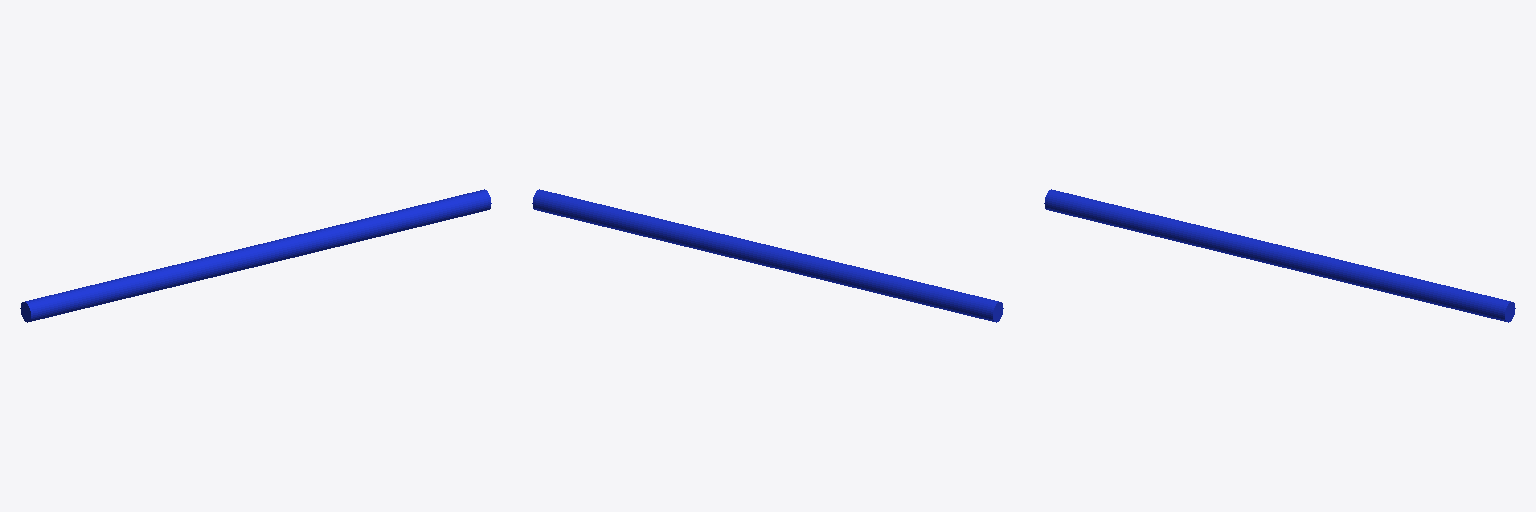
robot.urdf — cb_pen_d60:
<?xml version="1.0"?>
<!-- A30 pen search rod. Generated by FoundationTouch tools/contactbench/pen_tasks.py -->
<robot name="cb_pen_d60">
  <material name="c"><color rgba="0.15 0.25 0.85 1.0"/></material>
  <link name="object">
    <visual><origin xyz="0 0 0" rpy="0 0 0"/><geometry><mesh filename="rod.obj" scale="1 1 1"/></geometry><material name="c"/></visual>
    <collision><origin xyz="0 0 0" rpy="0 0 0"/><geometry><mesh filename="rod.obj" scale="1 1 1"/></geometry></collision>
    <inertial><mass value="3.500000e-03"/><origin xyz="0 0 0" rpy="0 0 0"/><inertia ixx="1.564912e-08" ixy="0" ixz="0" iyy="6.570325e-06" iyz="0" izz="6.570325e-06"/></inertial>
  </link>
</robot>

--- Render facts (derived) ---
3 views of the same robot in one strip: view 1: azimuth 30°, elevation 25°; view 2: azimuth 150°, elevation 25°; view 3: azimuth 330°, elevation 25° (orthographic).
Robot: cb_pen_d60 — 1 links, 0 joints (none); root link object; default pose: every joint at zero.
Links seen in each view (by area): view 1: object; view 2: object; view 3: object.
Link boxes in pixels (x1,y1,x2,y2): object: (20, 189, 491, 322); object: (532, 189, 1003, 322); object: (1044, 189, 1515, 322).
Size in the robot's own frame: 0.15 by 0.006 by 0.006 metres.
Meshes: 1 distinct files referenced, 1 mesh visuals loaded (1 OBJ).
